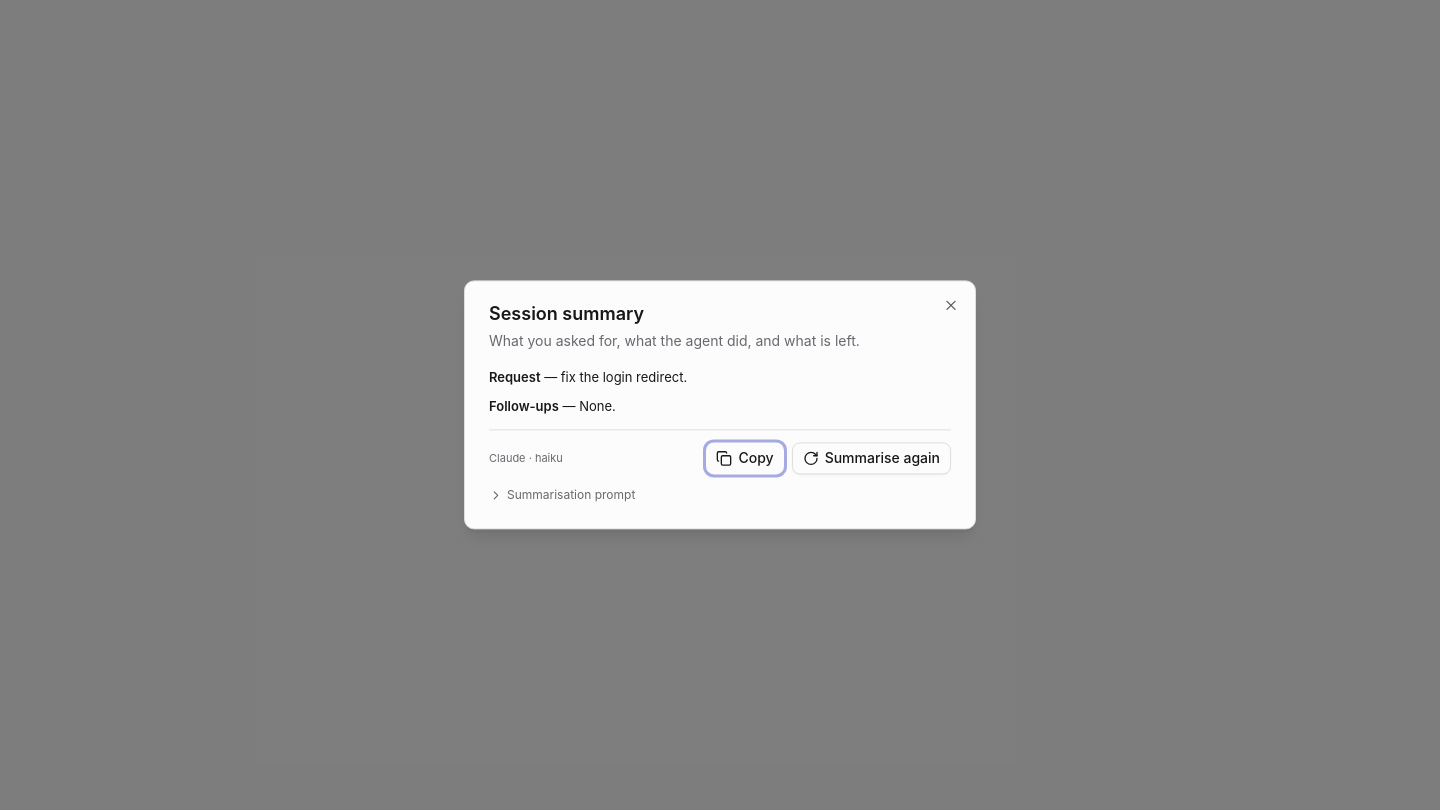
the session summary panel › the prompt editor › cannot save a prompt nobody edited
Click the button "Summarisation prompt": click(562, 496) [489, 487, 635, 505]
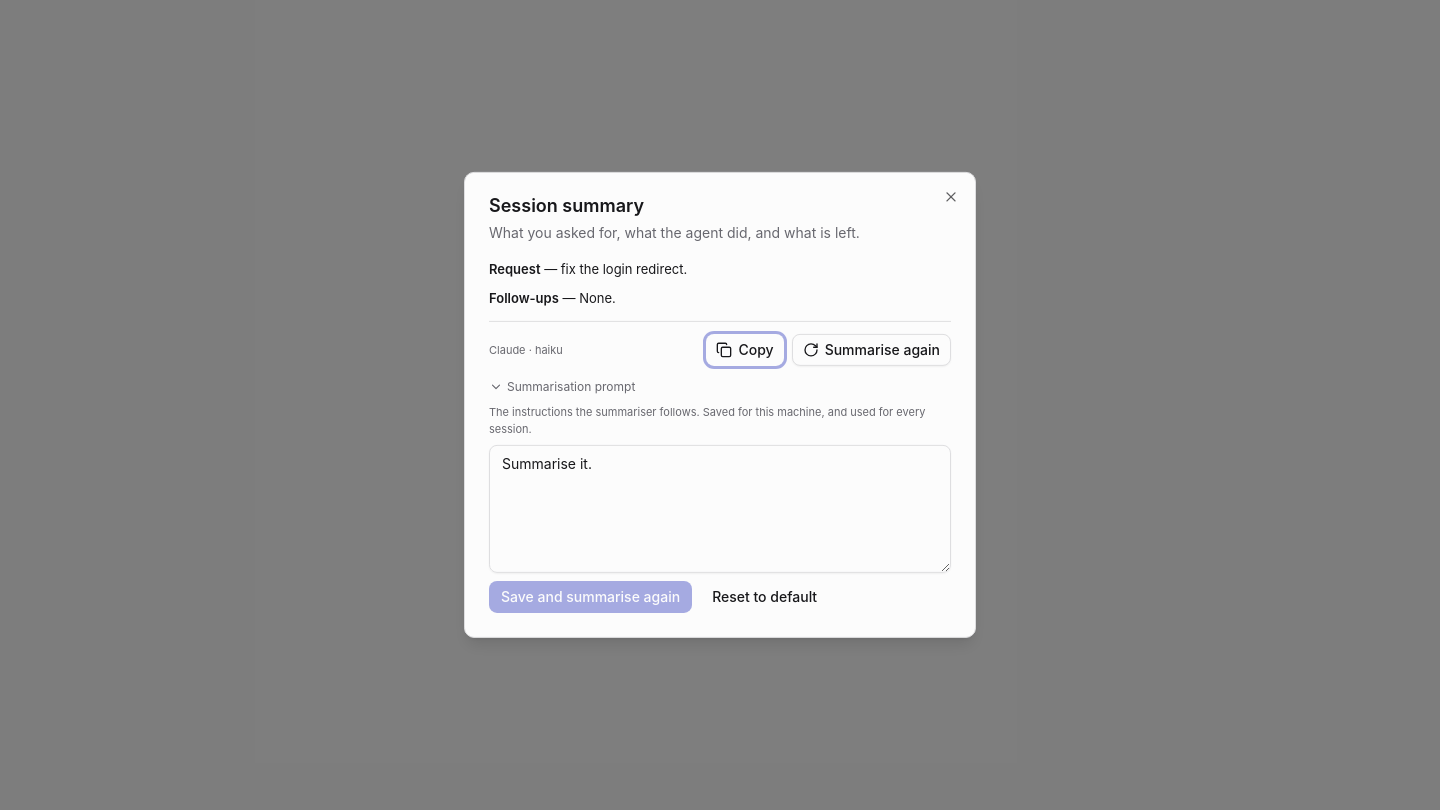
Expected: the button "Save and summarise again" is disabled, [489, 581, 692, 613]
